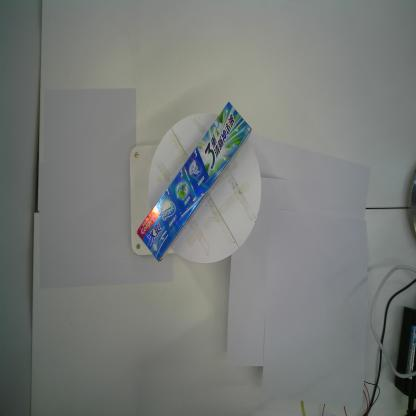Personal Hygiene: (136, 100, 252, 262)
